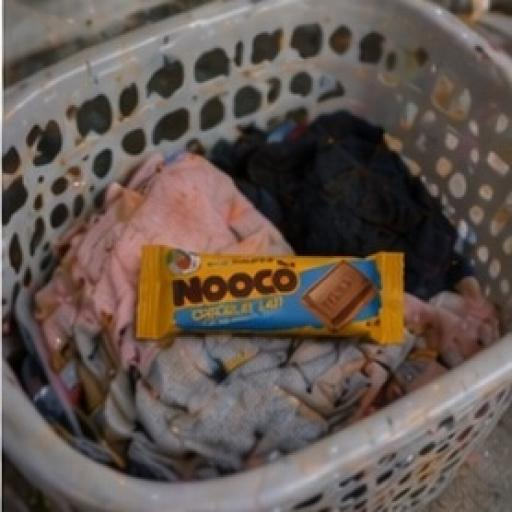nooco: (114, 212, 446, 357)
